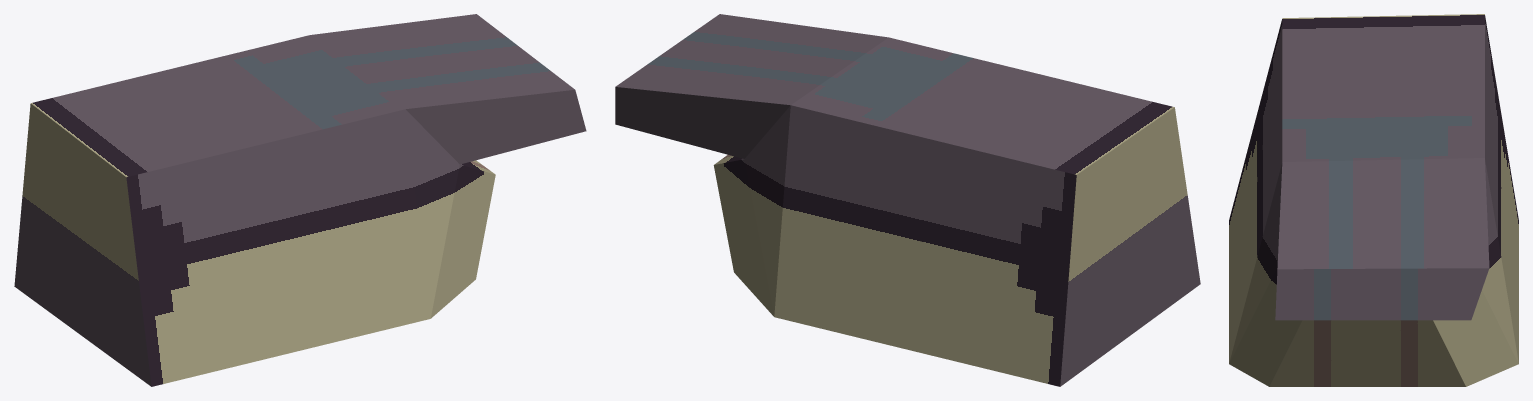
Rendered from armadillo_fist.glb.
The picture shows the model from 3 angles, left to right: view 1: azimuth 30°, elevation 25°; view 2: azimuth 150°, elevation 25°; view 3: azimuth 270°, elevation 25°; orthographic projection. The views are drawn at different scales.
Visible parts, largest first — view 1: Cube.119; view 2: Cube.119; view 3: Cube.119.
Boxes of the visible parts, x1,y1,x2,y2 form: Cube.119: [14, 14, 586, 386]; Cube.119: [615, 14, 1200, 386]; Cube.119: [1229, 14, 1518, 386].
Size of the model in its own units: 1.74 by 0.7112 by 0.906.
Materials: 1 (1 with a texture image).
